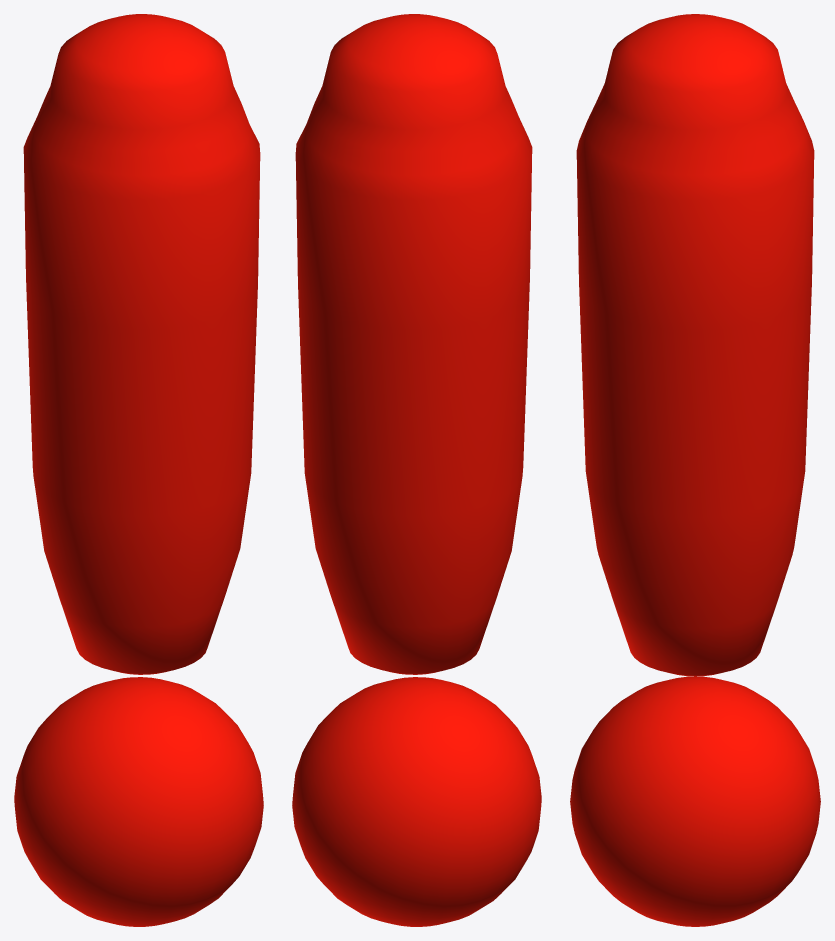
The model's file is Icon_distressed.FBX.
The picture shows the model from 3 angles, left to right: view 1: azimuth 30°, elevation 25°; view 2: azimuth 150°, elevation 25°; view 3: azimuth 270°, elevation 25°; orthographic projection.
Parts seen in each view (by area): view 1: Sphere002; view 2: Sphere002; view 3: Sphere002.
Boxes of the visible parts, left/top/right/bottom form: Sphere002: left=14, top=14, right=263, bottom=926; Sphere002: left=292, top=14, right=541, bottom=926; Sphere002: left=570, top=14, right=820, bottom=926.
Size of the model in its own units: 7.23 by 28.35 by 7.23.
